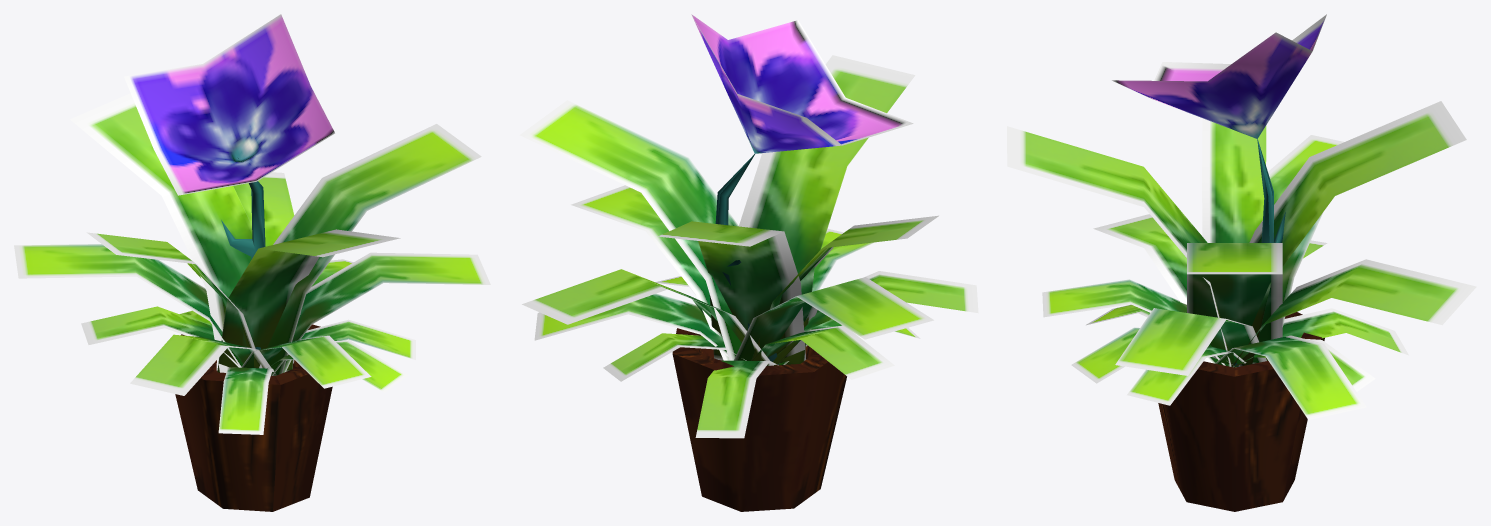
Rendered from SM_PROP_PLANT_pot_v3_01.glb.
3 renders of one model, left to right at view 1: azimuth 30°, elevation 25°; view 2: azimuth 150°, elevation 25°; view 3: azimuth 270°, elevation 25°, orthographic. The views are drawn at different scales.
Visible parts, largest first — view 1: SM_PROP_PLANT_pot_v3_01_EXPORT; view 2: SM_PROP_PLANT_pot_v3_01_EXPORT; view 3: SM_PROP_PLANT_pot_v3_01_EXPORT.
Boxes of the visible parts, box(x1,y1,x2,y2) form: SM_PROP_PLANT_pot_v3_01_EXPORT: box(14, 14, 490, 511); SM_PROP_PLANT_pot_v3_01_EXPORT: box(519, 14, 978, 511); SM_PROP_PLANT_pot_v3_01_EXPORT: box(1007, 14, 1476, 511).
Size of the model in its own units: 1.23 by 1.3 by 1.16.
2 materials, 2 textured.
